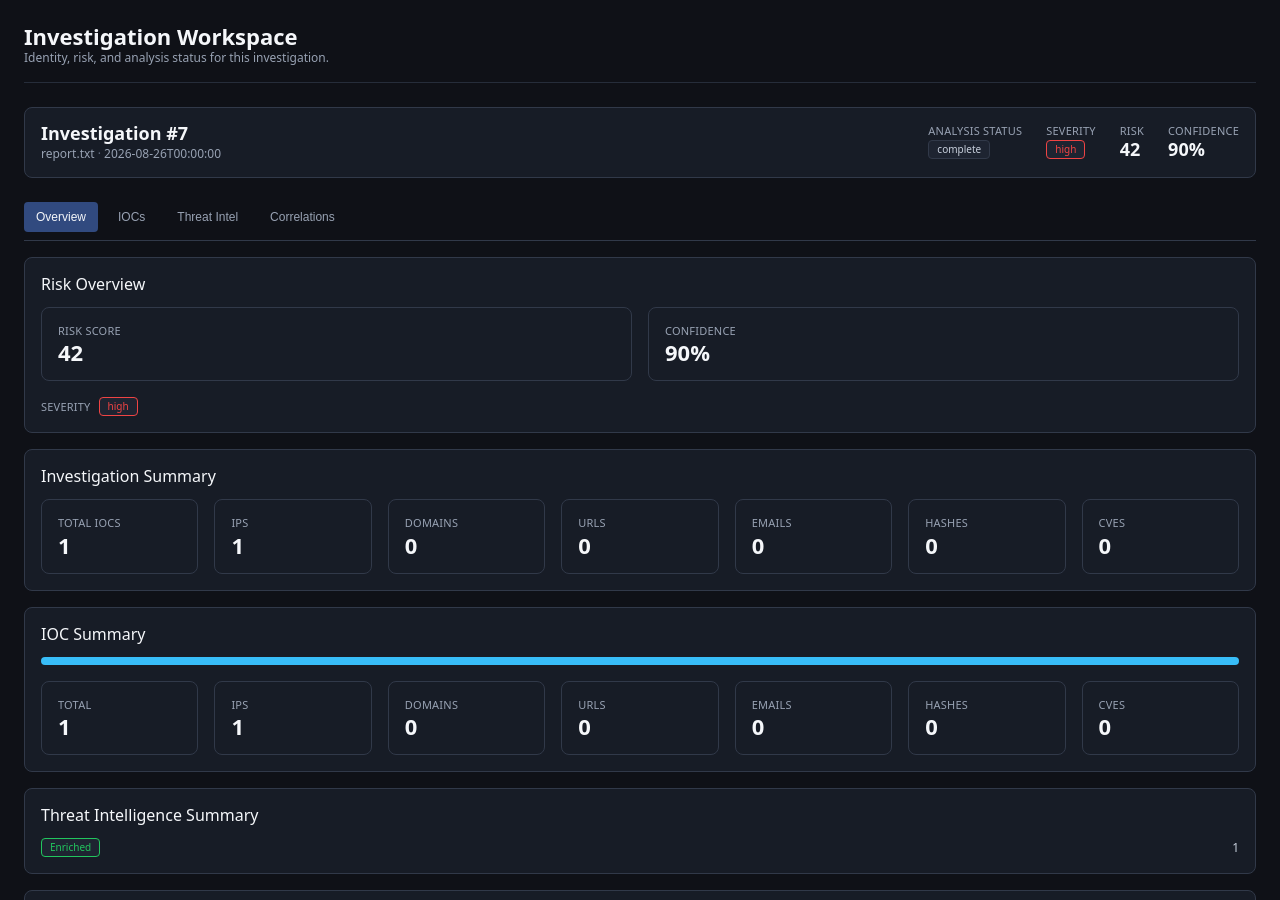
Test case: InvestigationWorkspacePage › Correlations tab (Part 4A) › selects the Correlations tab and renders the honest foundation, replacing the Overview content
The width and height of the screenshot is (1280, 900).
Click the tab "Correlations" at [302, 217], box [258,202,347,232]
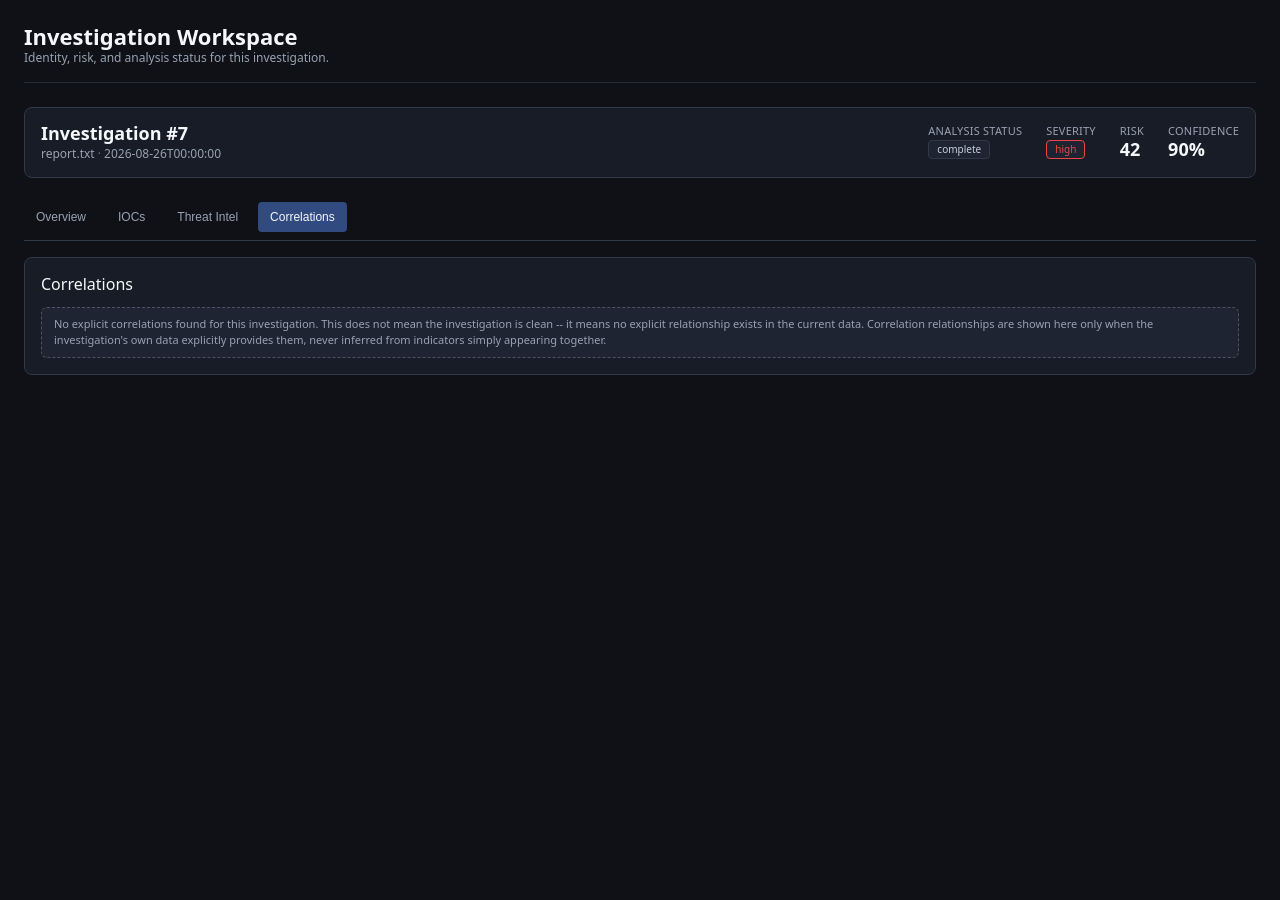
Check: the element with class "investigation-correlations" is shown, box [24,257,1256,375]
Check: the element with class "investigation-overview-risk" is gone
Check: the element with class "investigation-correlations" shows "No explicit correlations found", box [54,316,1153,348]
